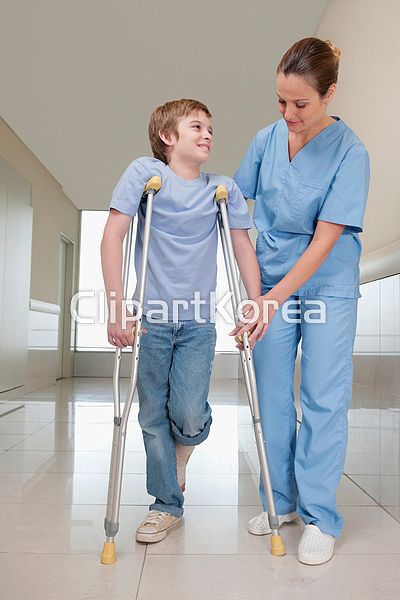crutches: (98, 98, 285, 563)
